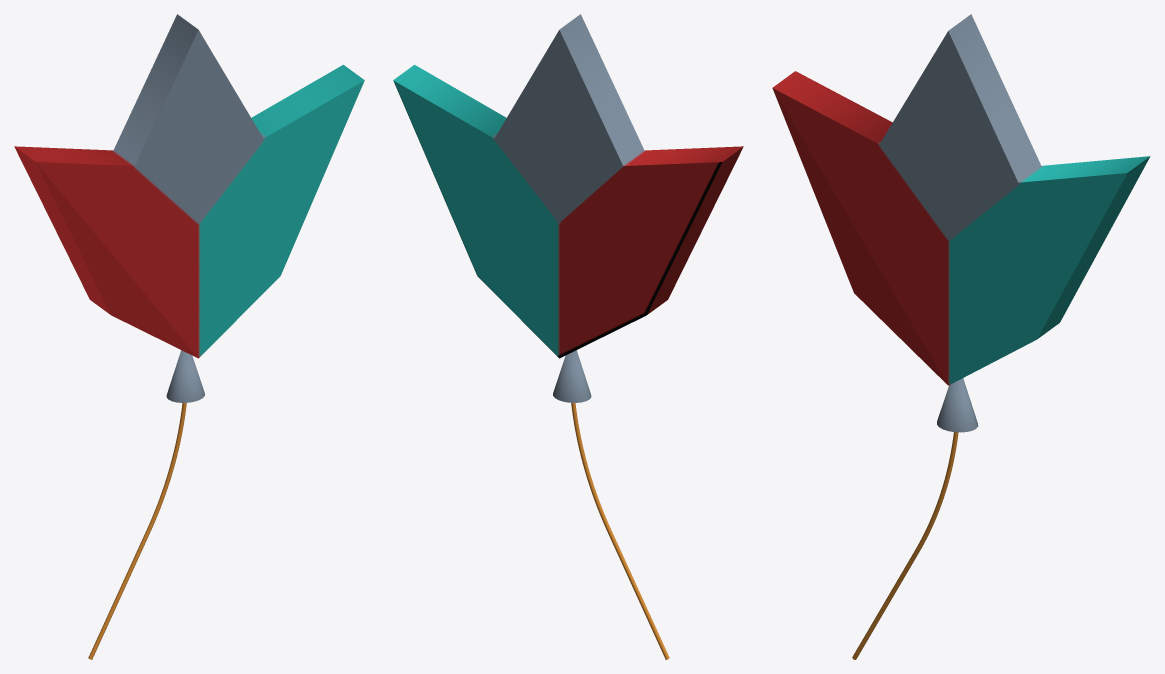
The model's file is HP Balloon2.fbx.
The picture shows the model from 3 angles, left to right: view 1: azimuth 30°, elevation 25°; view 2: azimuth 150°, elevation 25°; view 3: azimuth 330°, elevation 25°; orthographic projection. The views are drawn at different scales.
Parts seen in each view (by area): view 1: pCube4; view 2: pCube4; view 3: pCube4.
Boxes of the visible parts, x1=… form: pCube4: x1=14, y1=14, x2=364, y2=659; pCube4: x1=393, y1=14, x2=743, y2=659; pCube4: x1=772, y1=14, x2=1150, y2=659.
Bounding box in the file's own units: 21.88 × 39.01 × 2.46.
Materials: 1 (1 with a texture image).
